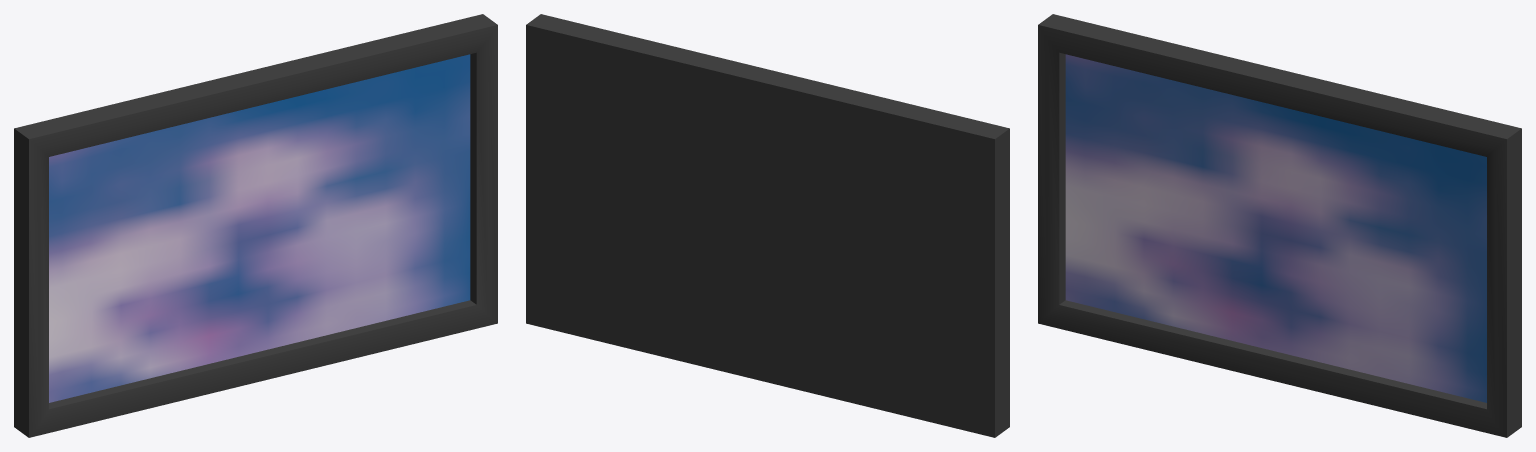
Rendered from SM_Photo_1.fbx.
The picture shows the model from 3 angles, left to right: view 1: azimuth 30°, elevation 25°; view 2: azimuth 150°, elevation 25°; view 3: azimuth 330°, elevation 25°; orthographic projection.
Parts seen in each view (by area): view 1: canvas, frame, canvas2; view 2: frame; view 3: canvas, canvas2, frame.
Part boxes in pixels (<box>): canvas: <box>49,54,470,402</box>; frame: <box>14,14,497,437</box>; canvas2: <box>49,55,469,401</box>; frame: <box>526,14,1009,437</box>; canvas: <box>1065,54,1486,402</box>; canvas2: <box>1065,55,1486,402</box>; frame: <box>1038,14,1521,437</box>.
Size of the model in its own units: 2.34 by 1.43 by 0.1358.
